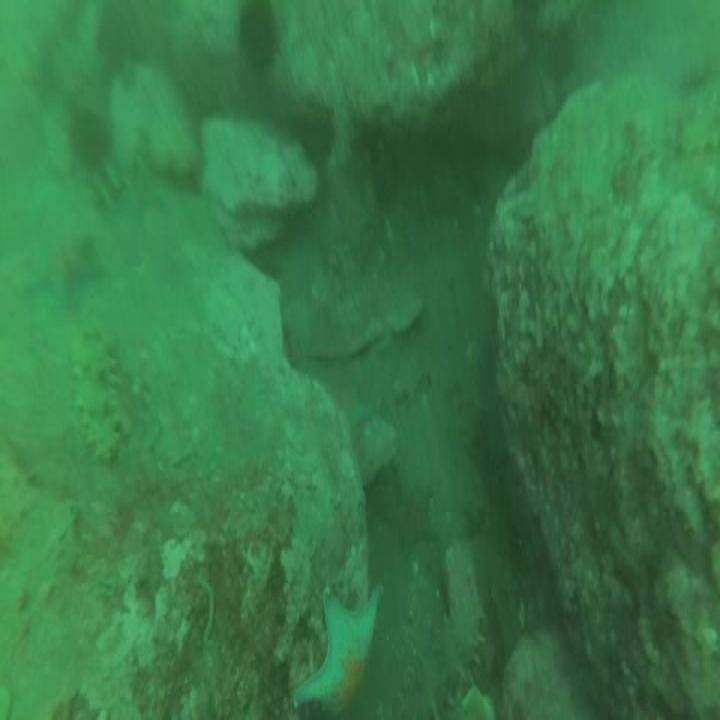echinus: (235, 0, 285, 84), (469, 400, 514, 487), (96, 0, 142, 80), (66, 100, 115, 170)
holothurian: (391, 586, 487, 720), (64, 317, 127, 476), (87, 126, 154, 217), (671, 82, 720, 162)
starfish: (288, 581, 385, 720)
